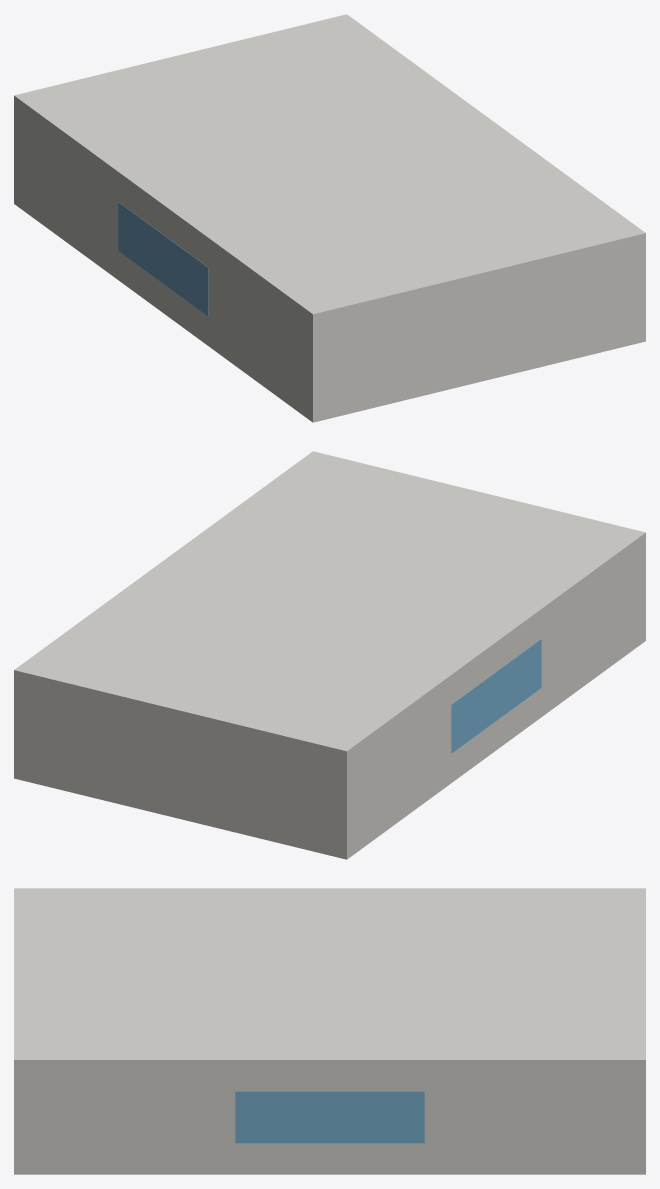
The model's file is CEM-ULT-PPC50.glb.
3 renders of one model, top to bottom at view 1: azimuth 30°, elevation 25°; view 2: azimuth 150°, elevation 25°; view 3: azimuth 270°, elevation 25°, orthographic. The views are drawn at different scales.
Visible parts, largest first — view 1: CEM-ULT-PPC50; view 2: CEM-ULT-PPC50; view 3: CEM-ULT-PPC50.
Boxes of the visible parts, box(x1,y1,x2,y2) form: CEM-ULT-PPC50: box(14, 14, 645, 422); CEM-ULT-PPC50: box(14, 451, 645, 859); CEM-ULT-PPC50: box(14, 888, 645, 1174).
Size of the model in its own units: 0.4509 by 0.14 by 0.7.
